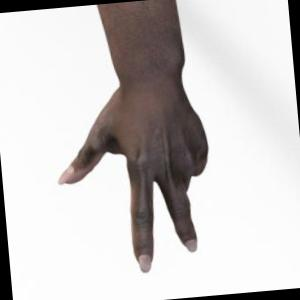scissors: (58, 0, 207, 272)
